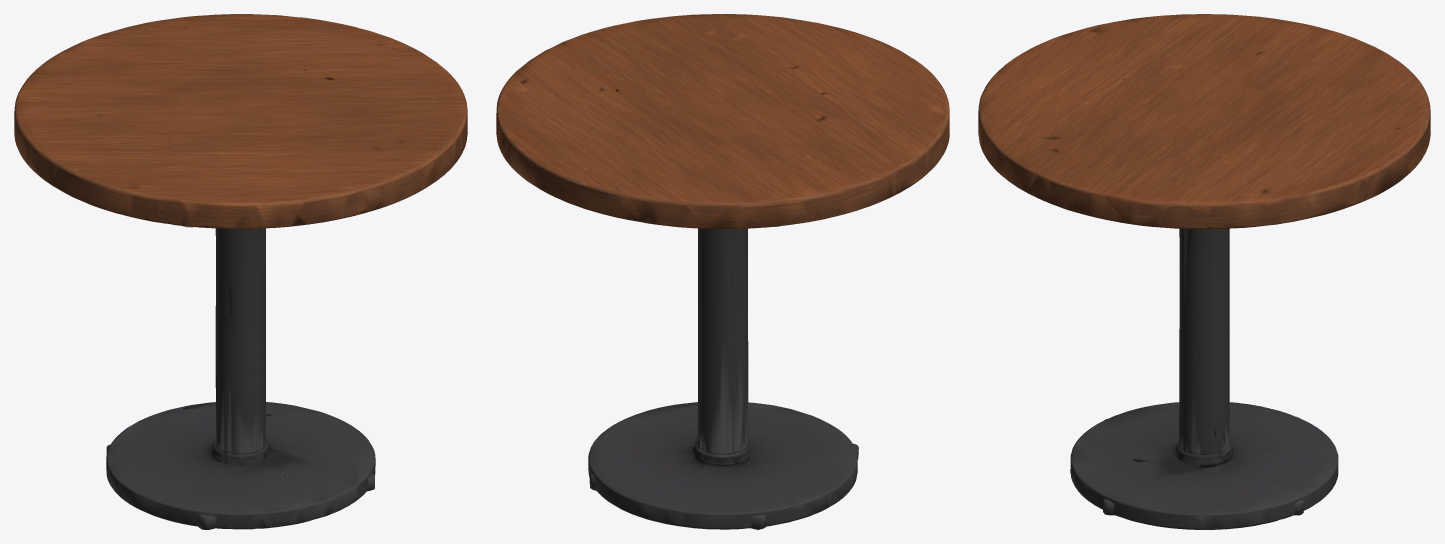
The model's file is table-brown-round.glb.
3 views of the same model, side by side, from view 1: azimuth 30°, elevation 25°; view 2: azimuth 150°, elevation 25°; view 3: azimuth 270°, elevation 25° (orthographic).
Visible parts, largest first — view 1: node_0; view 2: node_0; view 3: node_0.
Boxes of the visible parts, bbox=[...] form: node_0: bbox=[14, 14, 467, 529]; node_0: bbox=[496, 14, 949, 529]; node_0: bbox=[978, 14, 1430, 529].
Size of the model in its own units: 0.8987 by 0.8012 by 0.8983.
Materials: 3 (1 with a texture image).
